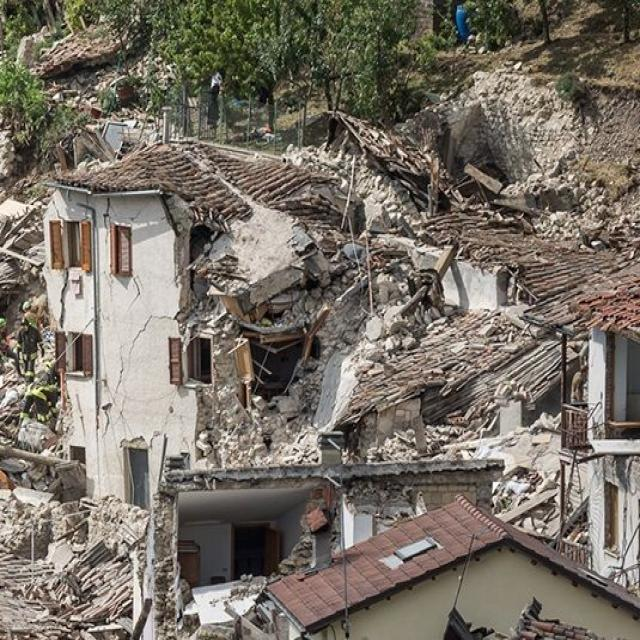collapsed_building: (55, 156, 546, 557)
